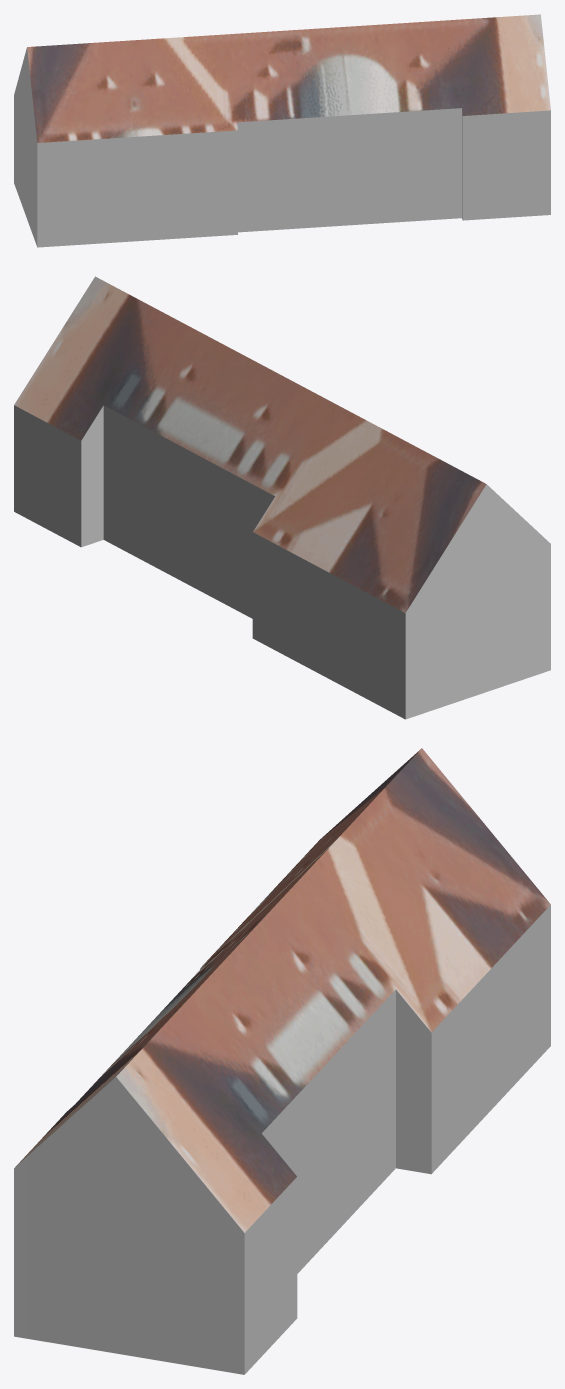
Rendered from DEBW_0010007TxeG.gltf.
3 views of the same model, one above another, from view 1: azimuth 30°, elevation 25°; view 2: azimuth 150°, elevation 25°; view 3: azimuth 270°, elevation 25° (orthographic). The views are drawn at different scales.
Visible parts, largest first — view 1: Z_UP; view 2: Z_UP; view 3: Z_UP.
Boxes of the visible parts, x1,y1,x2,y2 form: Z_UP: (14,14,550,247); Z_UP: (14,276,550,719); Z_UP: (14,748,550,1374).
Bounding box in the file's own units: 68.77 × 24.18 × 42.52.
2 materials, 1 textured.
